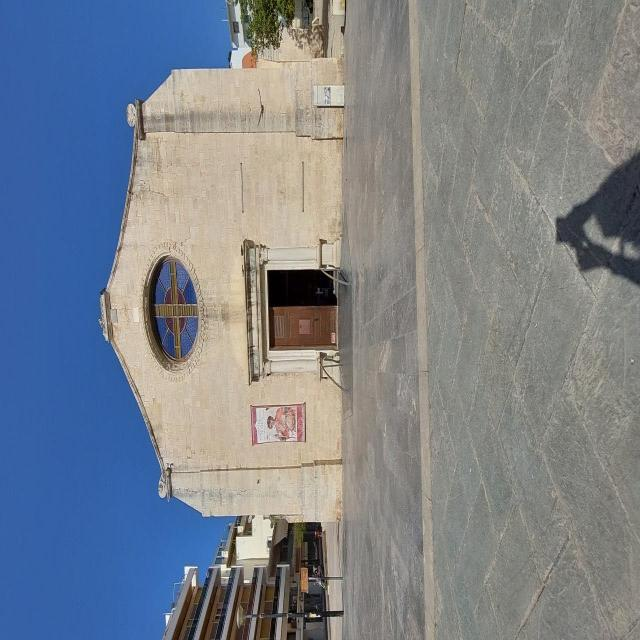Agia Aikaterini: (56, 208, 262, 640)
